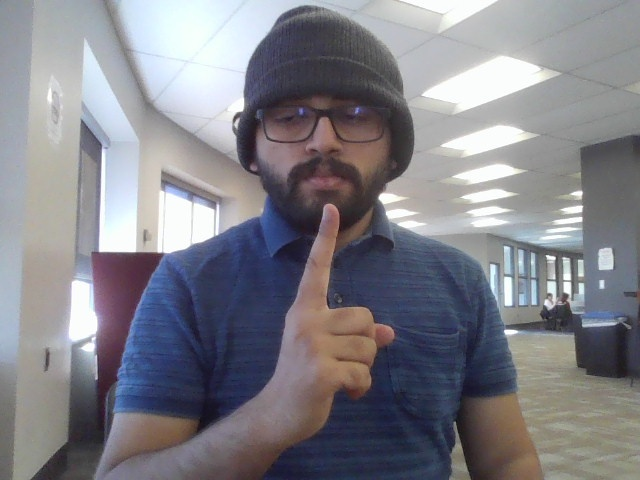one: (259, 200, 405, 461)
